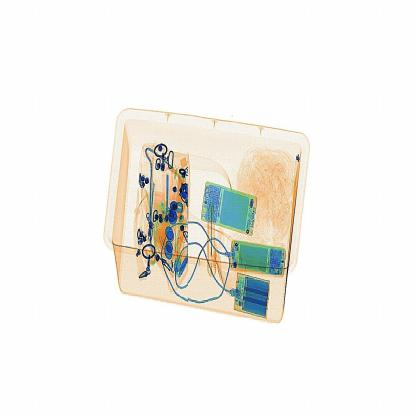pliers: (203, 194, 217, 271)
